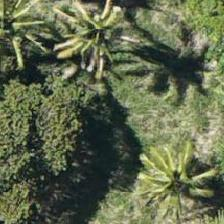coconut_tree: (134, 131, 223, 221), (43, 0, 133, 75)
